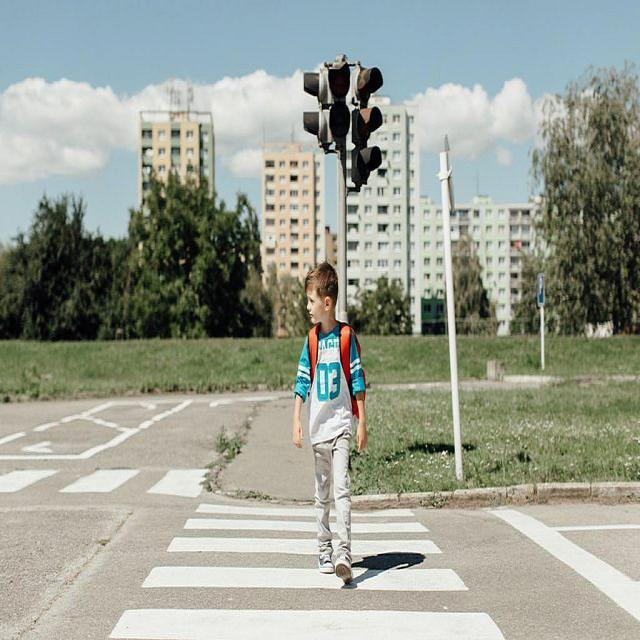without scooter: (292, 259, 373, 577)
